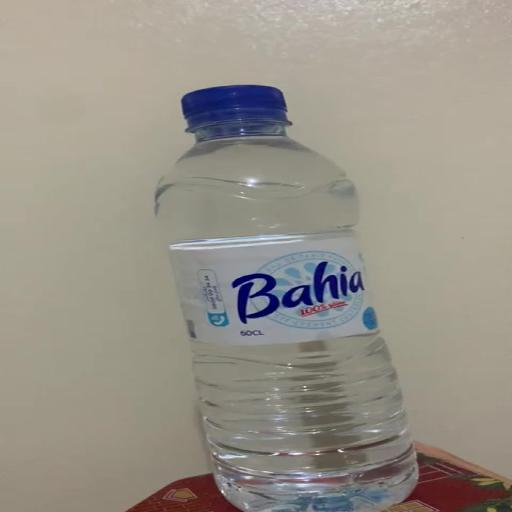bouteille conformite: (142, 66, 450, 512)
